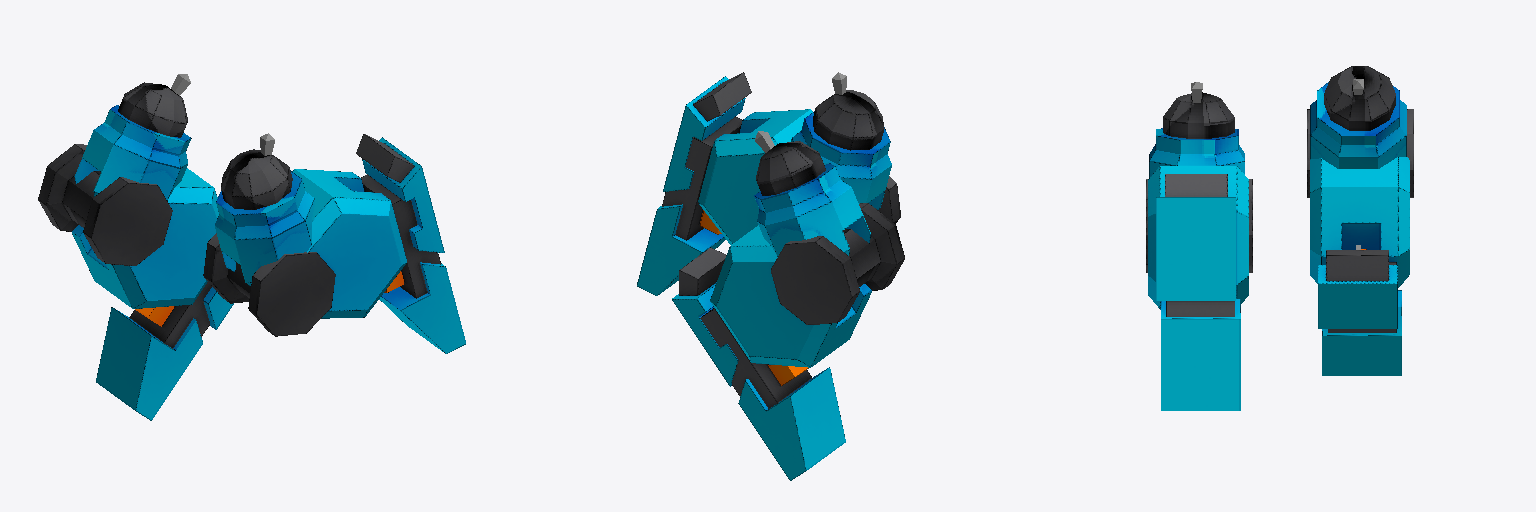
3 renders of one model, left to right at view 1: azimuth 30°, elevation 25°; view 2: azimuth 150°, elevation 25°; view 3: azimuth 270°, elevation 25°, orthographic.
Visible parts, largest first — view 1: Object010, Object013, Object014, Object011, Object012, Object009; view 2: Object010, Object011, Object014, Object009, Object013, Object012; view 3: Object014, Object010, Object011, Object009, Object012, Object013.
Part boxes in pixels (x1,y1,x2,y2): Object010: (38,144,218,308); Object013: (203,169,406,336); Object014: (356,134,465,353); Object011: (96,282,233,420); Object012: (215,149,315,285); Object009: (74,82,191,200); Object010: (710,203,904,367); Object011: (672,247,845,480); Object014: (637,72,751,295); Object009: (754,141,870,256); Object013: (698,109,900,244); Object012: (791,90,891,209); Object014: (1156,174,1240,410); Object010: (1307,109,1413,287); Object011: (1318,249,1401,375); Object009: (1310,66,1406,168); Object012: (1149,92,1244,177); Object013: (1146,166,1252,309).
Size of the model in its own units: 124 by 125 by 94.84.
1 materials, 1 textured.